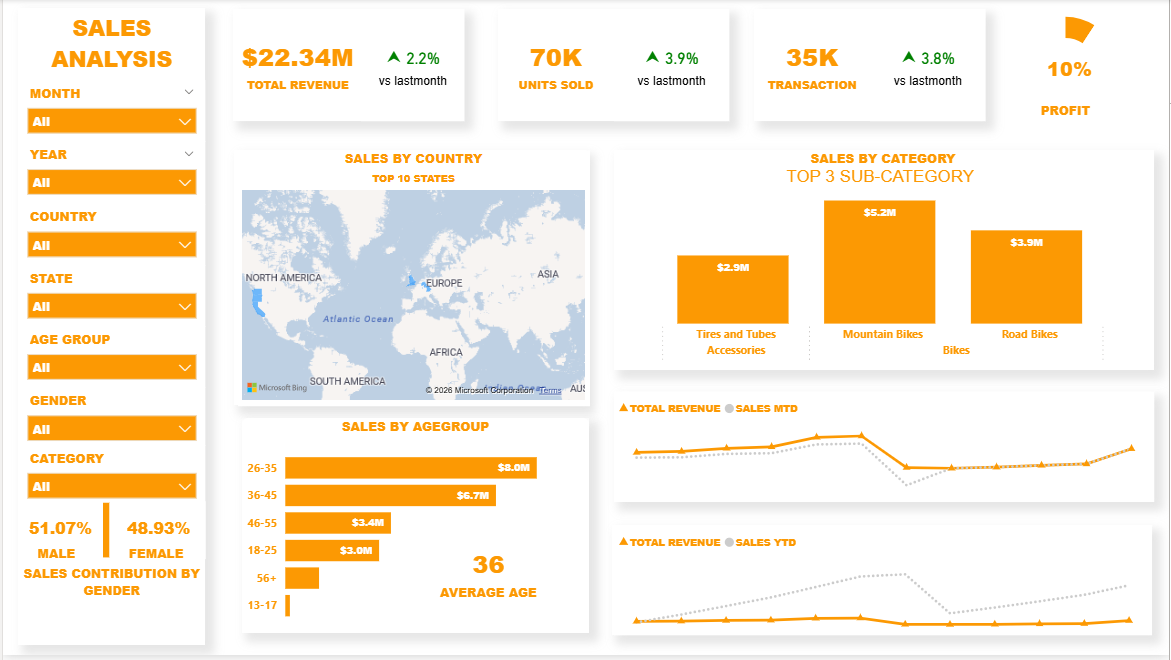

The dashboard page shown, as its layout file describes it:
{"tool":"powerbi","page":{"name":"DASHBOARD","canvas":[1280,720],"ordinal":0},"visuals":[{"type":"shape","box":[16.5,9.6,205.8,699.8],"z":0},{"type":"shape","box":[252.5,11,253.9,123.5],"z":1000},{"type":"shape","box":[543.4,11,253.9,123.5],"z":2000},{"type":"shape","box":[824.7,11,253.9,123.5],"z":3000},{"type":"shape","box":[253.9,166,385.6,279.9],"z":4000},{"type":"card","fields":{"Values":["mearsue.TOTAL REVENUE"]},"box":[253.9,11,140,123.5],"z":5000},{"type":"textbox","box":[16.5,9.6,205.8,109.8],"z":6000},{"type":"card","fields":{"Values":["mearsue.UNITS SOLD"]},"box":[543.4,11,127.6,123.5],"z":7000},{"type":"slicer","fields":{"Values":["DIMDATE.MonthName"]},"box":[16.5,89.2,205.8,67.2],"z":8000},{"type":"slicer","fields":{"Values":["DIMDATE.Year"]},"box":[16.5,156.4,205.8,68.6],"z":9000},{"type":"card","fields":{"Values":["mearsue.vs lastmonth"]},"box":[393.8,11,112.5,123.5],"z":10000},{"type":"card","fields":{"Values":["mearsue.c vs lastmonth"]},"box":[671,11,126.2,123.5],"z":11000},{"type":"card","fields":{"Values":["mearsue.TOTAL ORDERS"]},"box":[824.7,11,127.6,123.5],"z":12000},{"type":"card","fields":{"Values":["mearsue.o vs lastmonth"]},"box":[952.3,11,126.2,123.5],"z":13000},{"type":"filledMap","title":"SALES BY COUNTRY","fields":{"Category":["SALESDATA.State"]},"box":[258,166,385.6,279.9],"z":14000},{"type":"slicer","fields":{"Values":["SALESDATA.Country"]},"box":[16.5,225,205.8,67.2],"z":15000},{"type":"slicer","fields":{"Values":["SALESDATA.State"]},"box":[16.5,292.3,205.8,67.2],"z":16000},{"type":"shape","box":[671,166,592.8,241.5],"z":17000},{"type":"clusteredColumnChart","title":"SALES BY CATEGORY","fields":{"Category":["SALESDATA.Product Category","SALESDATA.Sub Category"],"Y":["mearsue.TOTAL REVENUE"]},"box":[671,166,590.1,241.5],"z":18000},{"type":"shape","box":[262.1,459.7,381.5,236],"z":19000},{"type":"clusteredBarChart","title":"SALES BY AGEGROUP","fields":{"Category":["SALESDATA.AGE GROUP"],"Y":["mearsue.TOTAL REVENUE"]},"box":[262.1,459.7,381.5,236],"z":20000},{"type":"slicer","fields":{"Values":["SALESDATA.AGE GROUP"]},"box":[16.5,359.5,205.8,67.2],"z":21000},{"type":"slicer","fields":{"Values":["SALESDATA.Customer Gender"]},"box":[16.5,426.8,205.8,63.1],"z":22000},{"type":"card","fields":{"Values":["mearsue.PROFIT %"]},"box":[1078.6,9.6,185.2,135.8],"z":23000},{"type":"donutChart","fields":{"Y":["mearsue.PROFIT","mearsue.TOTAL REVENUE"]},"box":[1058,0,216.8,156.4],"z":24000},{"type":"card","fields":{"Values":["mearsue.AVG CUSTOMER AGE"]},"box":[422.6,565.4,220.9,130.4],"z":25000},{"type":"slicer","fields":{"Values":["SALESDATA.Product Category"]},"box":[16.5,489.9,205.8,61.7],"z":26000},{"type":"textbox","box":[1071.7,108.4,189.4,30.2],"z":27000},{"type":"shape","box":[671,430.9,592.8,120.8],"z":28000},{"type":"textbox","box":[854.9,179.8,248.4,54.9],"z":29000},{"type":"lineChart","fields":{"Y":["mearsue.TOTAL REVENUE","mearsue.SALES MTD"],"Category":["DIMDATE.MonthName"]},"box":[671,430.9,592.8,120.8],"z":30000},{"type":"shape","box":[668.3,577.7,592.8,120.8],"z":31000},{"type":"lineChart","fields":{"Y":["mearsue.TOTAL REVENUE","mearsue.SALES YTD"],"Category":["DIMDATE.MonthName"]},"box":[671,577.7,590.1,120.8],"z":32000},{"type":"card","fields":{"Values":["mearsue.M SALES CONTRIBUTION"]},"box":[16.5,551.6,93.3,63.1],"z":33000},{"type":"shape","box":[109.8,553,6.9,60.4],"z":34000},{"type":"card","fields":{"Values":["mearsue.F SALES CONTRIBUTION"]},"box":[119.4,551.6,102.9,63.1],"z":35000},{"type":"textbox","box":[32.9,594.2,65.9,43.9],"z":36000},{"type":"textbox","box":[133.1,594.2,89.2,37],"z":37000},{"type":"textbox","box":[16.5,616.1,205.8,93.3],"z":38000}]}

Visuals, with their boxes in screenshot pixels (x1, y1, x2, y2), scaled from the page's 1280x720 canvas onto the 1171x660 screenshot:
shape: l=15, t=9, r=203, b=650
shape: l=231, t=10, r=463, b=123
shape: l=497, t=10, r=729, b=123
shape: l=754, t=10, r=987, b=123
shape: l=232, t=152, r=585, b=409
card - mearsue.TOTAL REVENUE: l=232, t=10, r=360, b=123
textbox: l=15, t=9, r=203, b=109
card - mearsue.UNITS SOLD: l=497, t=10, r=614, b=123
slicer - DIMDATE.MonthName: l=15, t=82, r=203, b=143
slicer - DIMDATE.Year: l=15, t=143, r=203, b=206
card - mearsue.vs lastmonth: l=360, t=10, r=463, b=123
card - mearsue.c vs lastmonth: l=614, t=10, r=729, b=123
card - mearsue.TOTAL ORDERS: l=754, t=10, r=871, b=123
card - mearsue.o vs lastmonth: l=871, t=10, r=987, b=123
"SALES BY COUNTRY" filledMap: l=236, t=152, r=589, b=409
slicer - SALESDATA.Country: l=15, t=206, r=203, b=268
slicer - SALESDATA.State: l=15, t=268, r=203, b=330
shape: l=614, t=152, r=1156, b=374
"SALES BY CATEGORY" clusteredColumnChart: l=614, t=152, r=1154, b=374
shape: l=240, t=421, r=589, b=638
"SALES BY AGEGROUP" clusteredBarChart: l=240, t=421, r=589, b=638
slicer - SALESDATA.AGE GROUP: l=15, t=330, r=203, b=391
slicer - SALESDATA.Customer Gender: l=15, t=391, r=203, b=449
card - mearsue.PROFIT %: l=987, t=9, r=1156, b=133
donutChart - mearsue.PROFIT x mearsue.TOTAL REVENUE: l=968, t=0, r=1166, b=143
card - mearsue.AVG CUSTOMER AGE: l=387, t=518, r=589, b=638
slicer - SALESDATA.Product Category: l=15, t=449, r=203, b=506
textbox: l=980, t=99, r=1154, b=127
shape: l=614, t=395, r=1156, b=506
textbox: l=782, t=165, r=1009, b=215
lineChart - mearsue.TOTAL REVENUE x mearsue.SALES MTD: l=614, t=395, r=1156, b=506
shape: l=611, t=530, r=1154, b=640
lineChart - mearsue.TOTAL REVENUE x mearsue.SALES YTD: l=614, t=530, r=1154, b=640
card - mearsue.M SALES CONTRIBUTION: l=15, t=506, r=100, b=563
shape: l=100, t=507, r=107, b=562
card - mearsue.F SALES CONTRIBUTION: l=109, t=506, r=203, b=563
textbox: l=30, t=545, r=90, b=585
textbox: l=122, t=545, r=203, b=579
textbox: l=15, t=565, r=203, b=650
